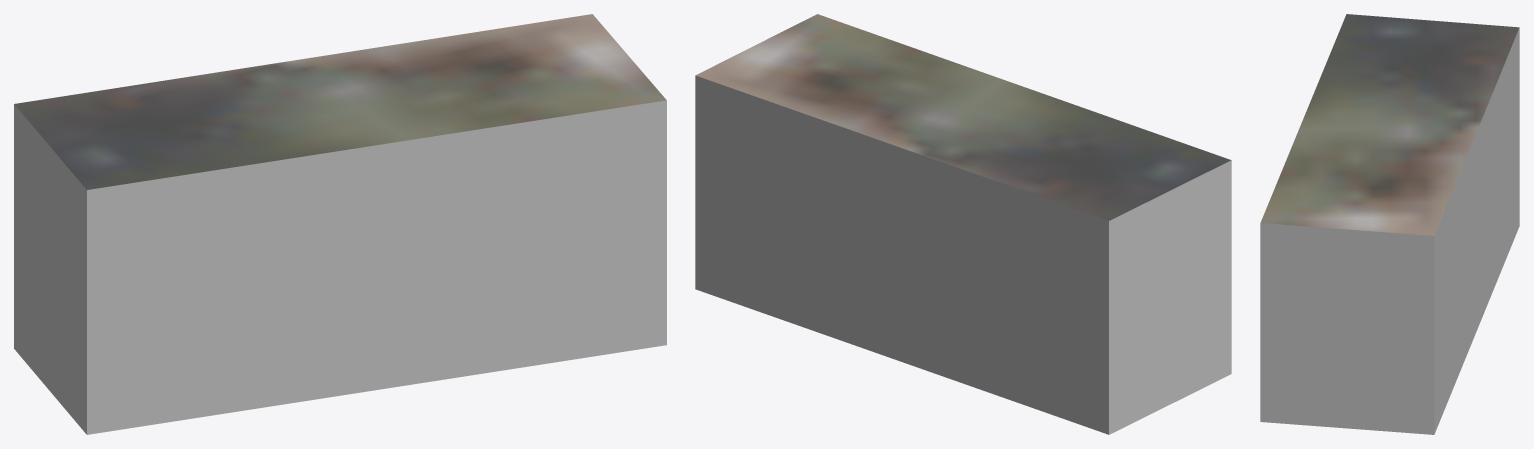
The model's file is DEBW_0010007THTh.gltf.
3 views of the same model, side by side, from view 1: azimuth 30°, elevation 25°; view 2: azimuth 150°, elevation 25°; view 3: azimuth 270°, elevation 25° (orthographic). The views are drawn at different scales.
Visible parts, largest first — view 1: Z_UP; view 2: Z_UP; view 3: Z_UP.
Boxes of the visible parts, box(x1,y1,x2,y2) form: Z_UP: box(14, 14, 666, 434); Z_UP: box(695, 14, 1231, 434); Z_UP: box(1260, 14, 1519, 434).
Bounding box in the file's own units: 5.98 × 2.5 × 2.95.
Materials: 2 (1 with a texture image).
